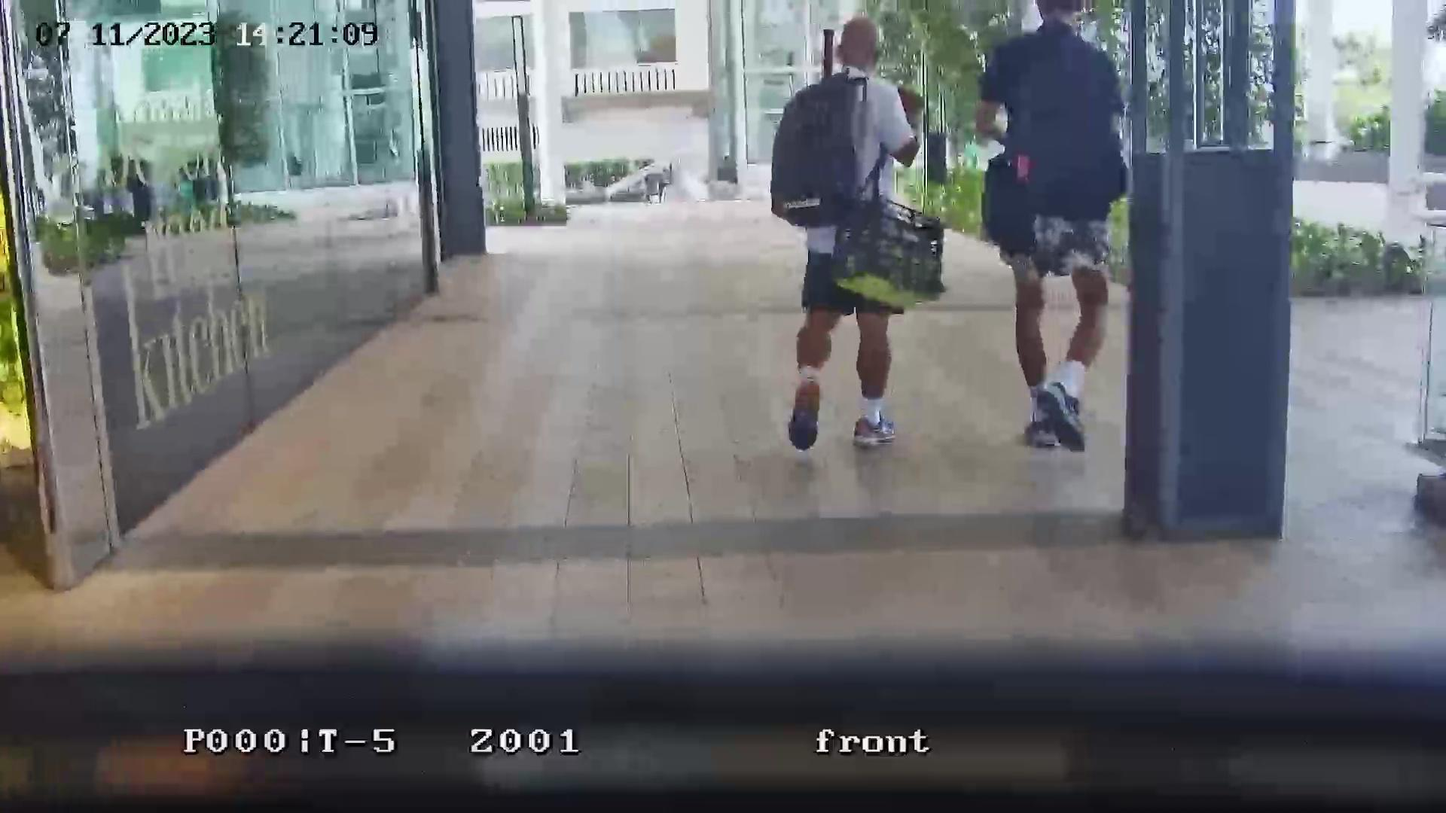person: (973, 0, 1131, 451), (769, 17, 923, 453)
